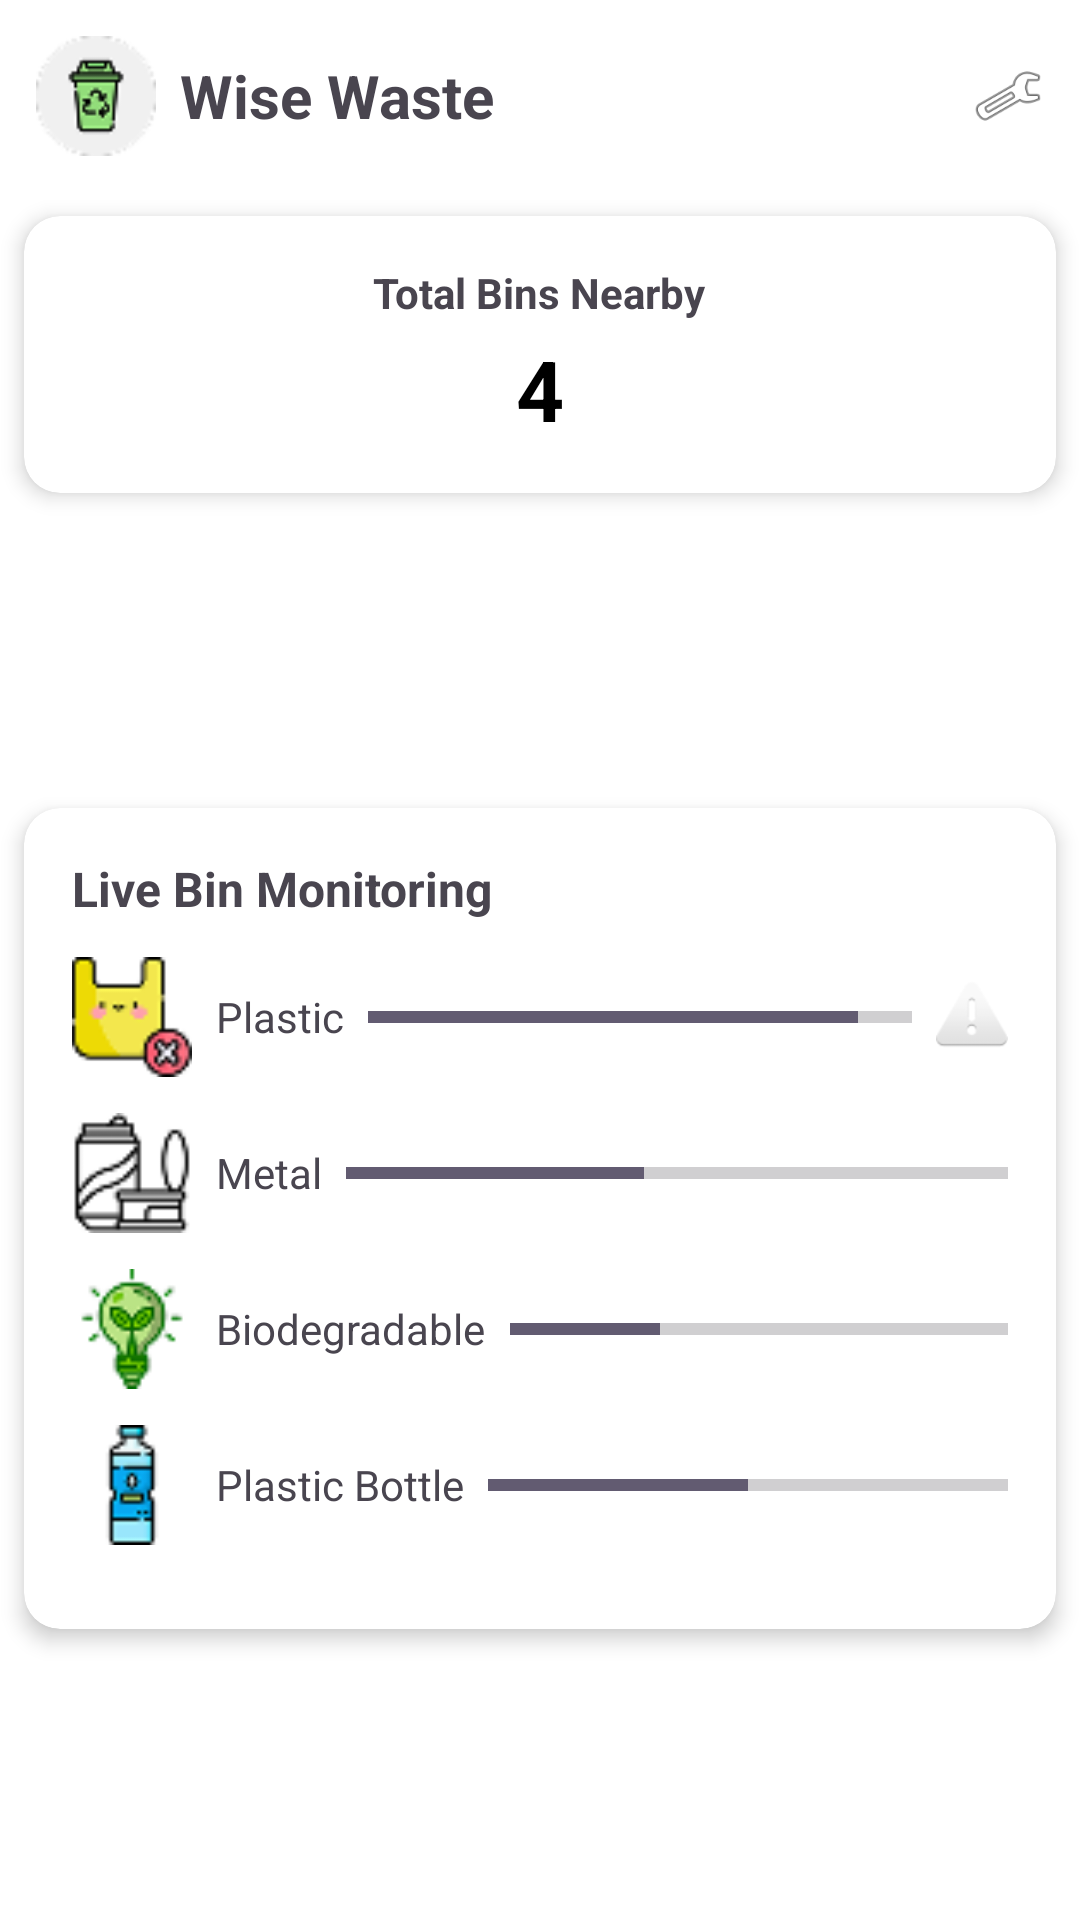

Where icons sit on this 1080px x 1920px app screen, as (x1, y1, x2, y2):
Alert: (936, 998, 1007, 1046)
Settings icon: (975, 71, 1040, 121)
